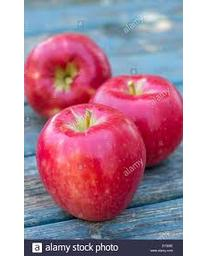apple: (35, 103, 146, 221), (89, 73, 182, 168), (24, 31, 112, 119)
